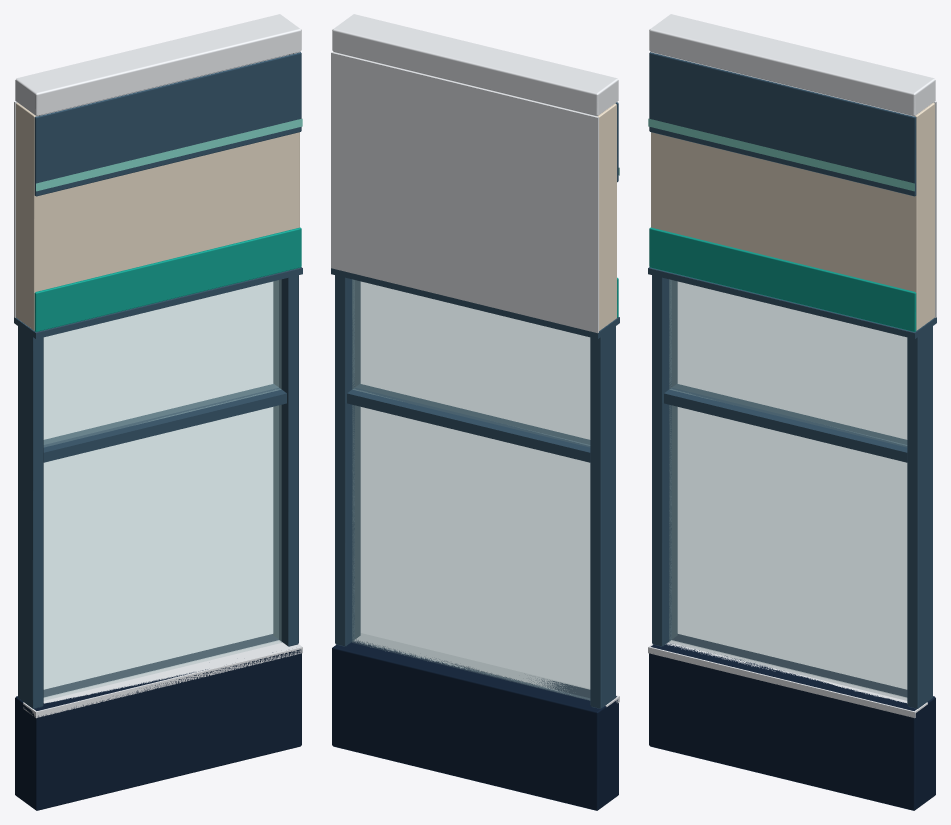
The model's file is CM_Shell_Storefront.fbx.
3 renders of one model, left to right at view 1: azimuth 30°, elevation 25°; view 2: azimuth 150°, elevation 25°; view 3: azimuth 330°, elevation 25°, orthographic.
Parts seen in each view (by area): view 1: Body, Glass; view 2: Body, Glass; view 3: Body, Glass.
Part boxes in pixels (x1,y1,x2,y2): Body: [14, 14, 302, 810]; Glass: [43, 280, 281, 700]; Body: [331, 14, 619, 810]; Glass: [352, 279, 590, 700]; Body: [648, 14, 936, 810]; Glass: [669, 279, 907, 700].
Size of the model in its own units: 7 by 1 by 18.
Materials: 2 (2 with a texture image).
